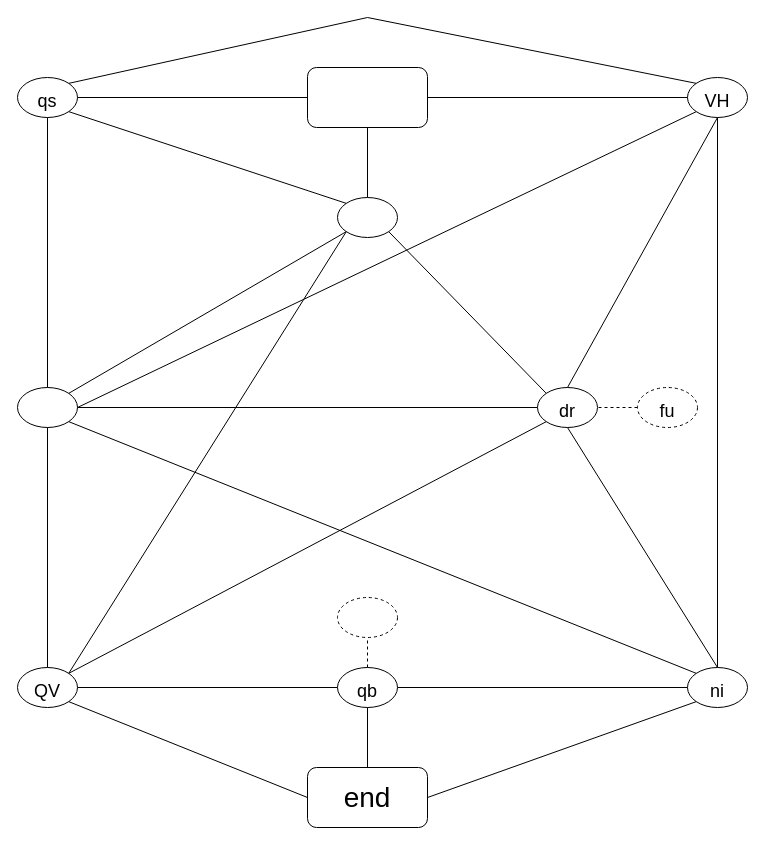
The diagram is 765 pixels wide and 845 high, and some of its shapes have lost their labels. Here are the shapes that lost their labels. From the top down, the centre of each, then its label:
At (367,97): "start".
At (367,217): "lm".
At (47,407): "jz".
At (367,617): "HE".
